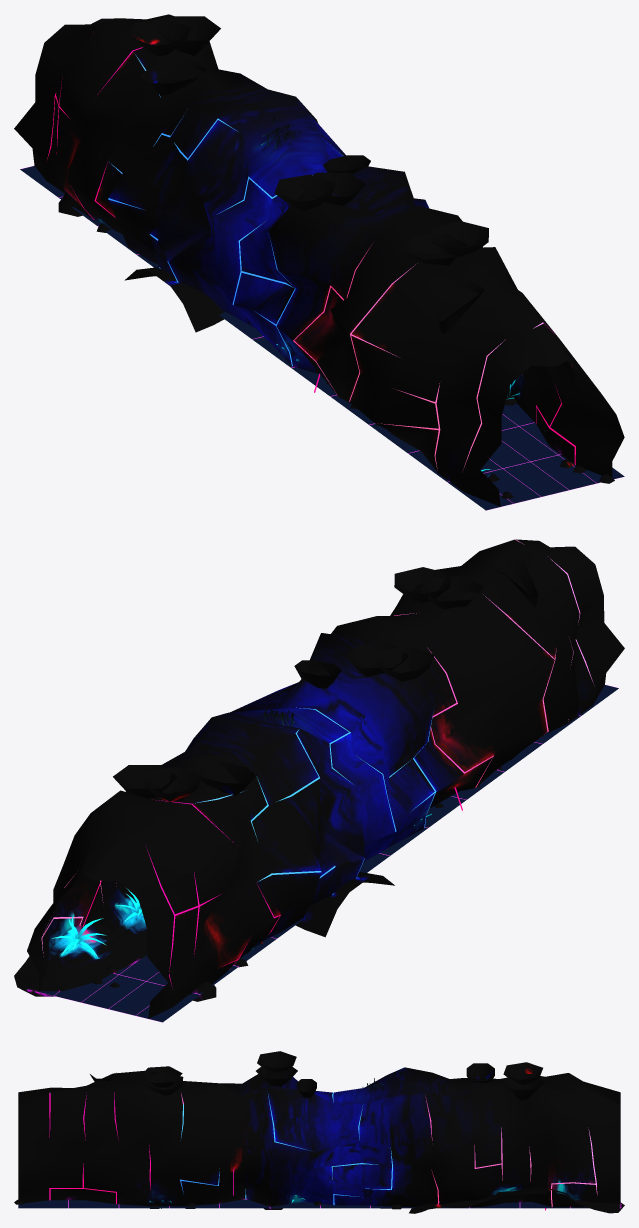
Rendered from Cave_Corridor_4.fbx.
The picture shows the model from 3 angles, top to bottom: view 1: azimuth 30°, elevation 25°; view 2: azimuth 150°, elevation 25°; view 3: azimuth 270°, elevation 25°; orthographic projection. The views are drawn at different scales.
Parts seen in each view (by area): view 1: Cave_Corridor_4; view 2: Cave_Corridor_4; view 3: Cave_Corridor_4.
Part boxes in pixels (<box>): Cave_Corridor_4: <box>14,14,624,510</box>; Cave_Corridor_4: <box>14,539,624,1022</box>; Cave_Corridor_4: <box>14,1051,624,1213</box>.
Size of the model in its own units: 11.96 by 11.03 by 46.66.
